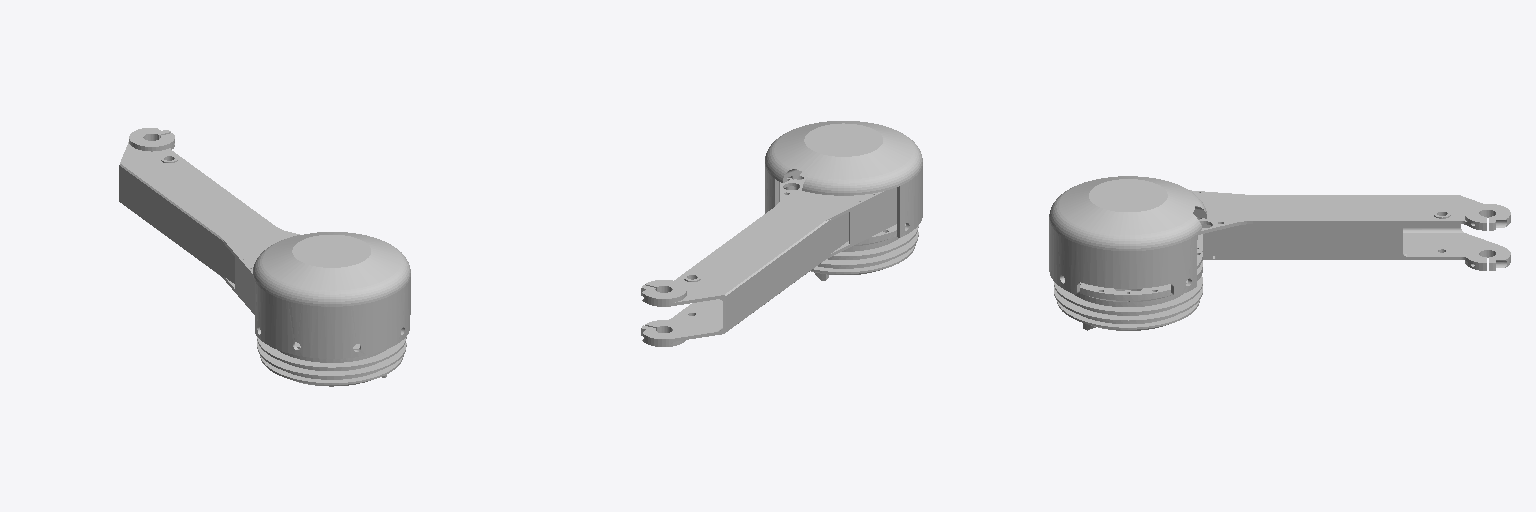
Rendered from L_THIGH.obj.
3 renders of one model, left to right at view 1: azimuth 30°, elevation 25°; view 2: azimuth 150°, elevation 25°; view 3: azimuth 270°, elevation 25°, orthographic.
Visible parts, largest first — view 1: default; view 2: default; view 3: default.
Part boxes in pixels (x1,y1,x2,y2): default: (119,128,410,386); default: (641,121,922,346); default: (1049,176,1510,330).
Bounding box in the file's own units: 0.11 × 0.0925 × 0.3209.